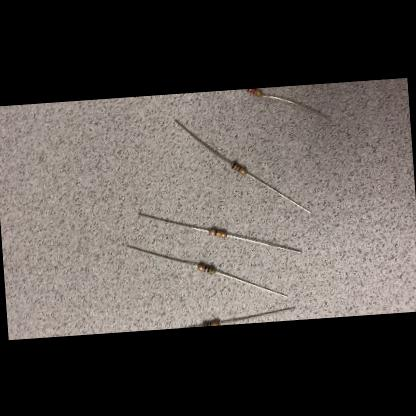resistor: (197, 262, 215, 274), (230, 162, 247, 174), (208, 228, 226, 237), (246, 87, 262, 96), (202, 320, 219, 326)
wire: (247, 168, 310, 216), (175, 114, 230, 168), (216, 265, 288, 301), (262, 90, 330, 124), (127, 240, 197, 272), (227, 228, 302, 257), (138, 207, 209, 236), (218, 306, 295, 324)
